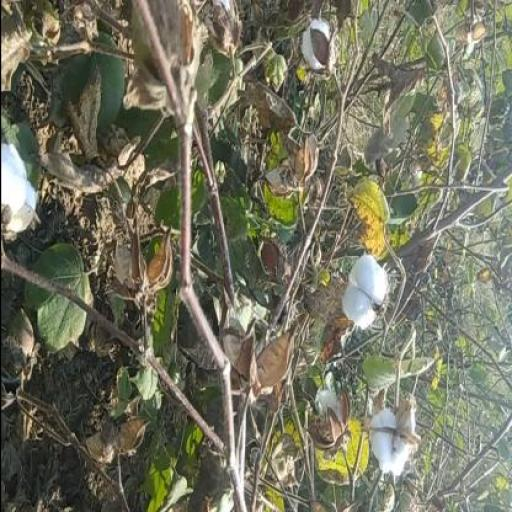cotton_ready: (354, 372, 423, 485), (331, 242, 388, 350), (285, 16, 339, 90), (3, 128, 38, 241)
